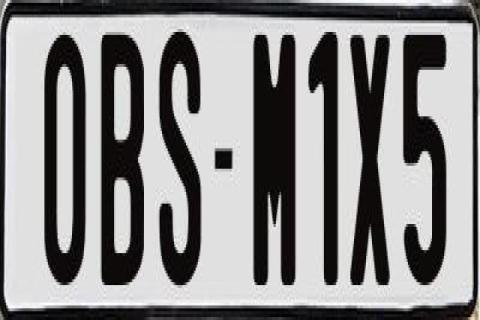0: (43, 35, 88, 285), (400, 35, 442, 288), (308, 26, 342, 291)
B: (98, 27, 144, 280)
M: (252, 35, 298, 285)
S: (156, 24, 202, 294)
X: (348, 32, 388, 288)
